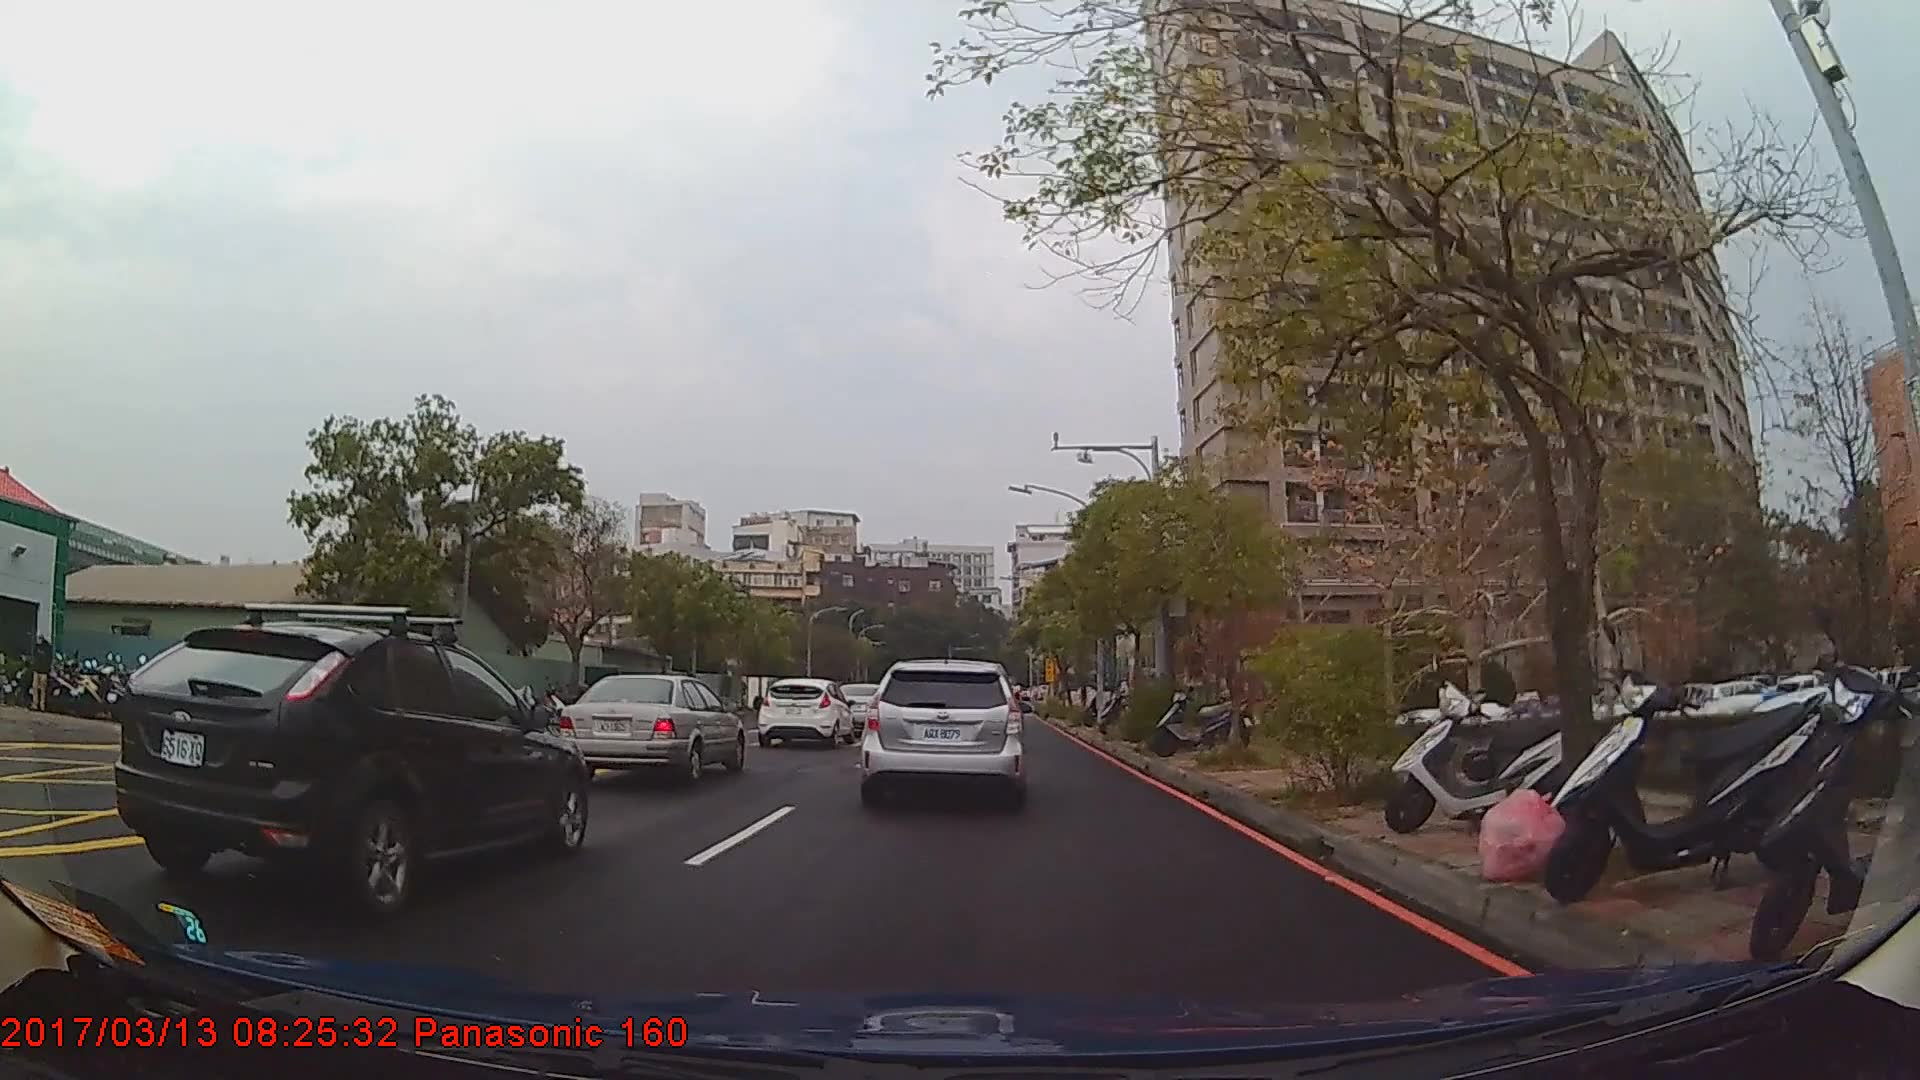pedestrian: (30, 631, 55, 713)
vehicle: (114, 620, 588, 914), (858, 655, 1022, 807), (552, 672, 745, 783), (753, 675, 852, 750)
